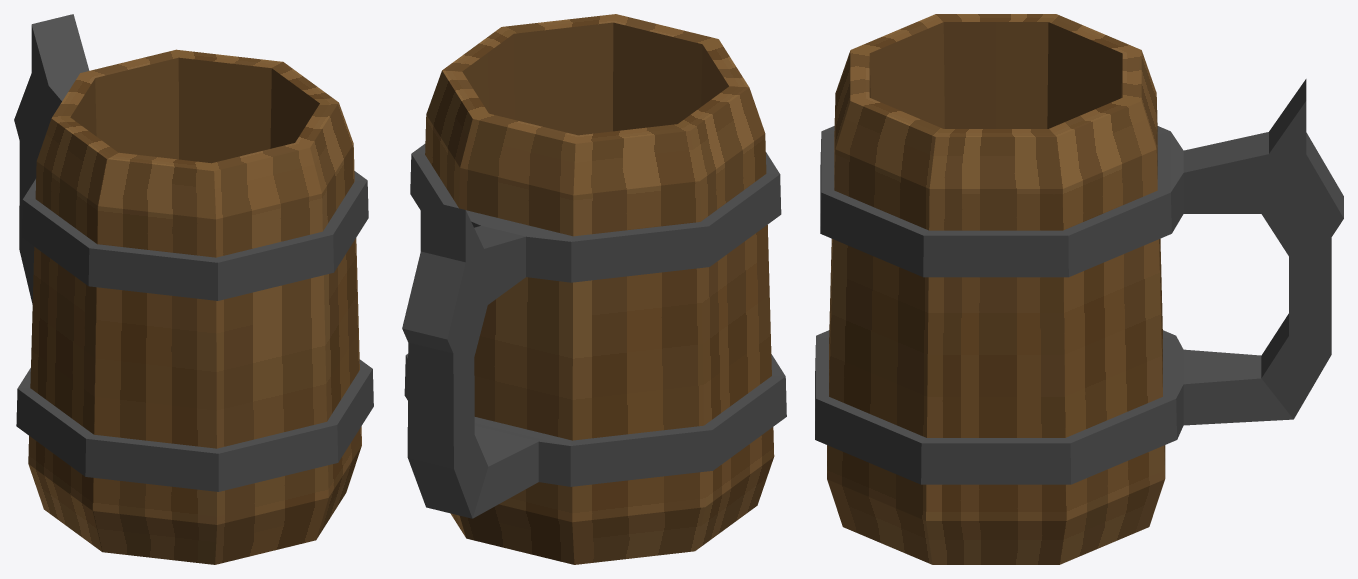
The model's file is bottle_616x14.obj.
3 views of the same model, side by side, from view 1: azimuth 30°, elevation 25°; view 2: azimuth 150°, elevation 25°; view 3: azimuth 270°, elevation 25° (orthographic). The views are drawn at different scales.
Visible parts, largest first — view 1: Wood_Stein; view 2: Wood_Stein; view 3: Wood_Stein.
Boxes of the visible parts, box(x1,y1,x2,y2) form: Wood_Stein: box(14, 14, 373, 564); Wood_Stein: box(402, 14, 786, 564); Wood_Stein: box(815, 14, 1343, 564).
Size of the model in its own units: 0.3538 by 0.4577 by 0.5167.
